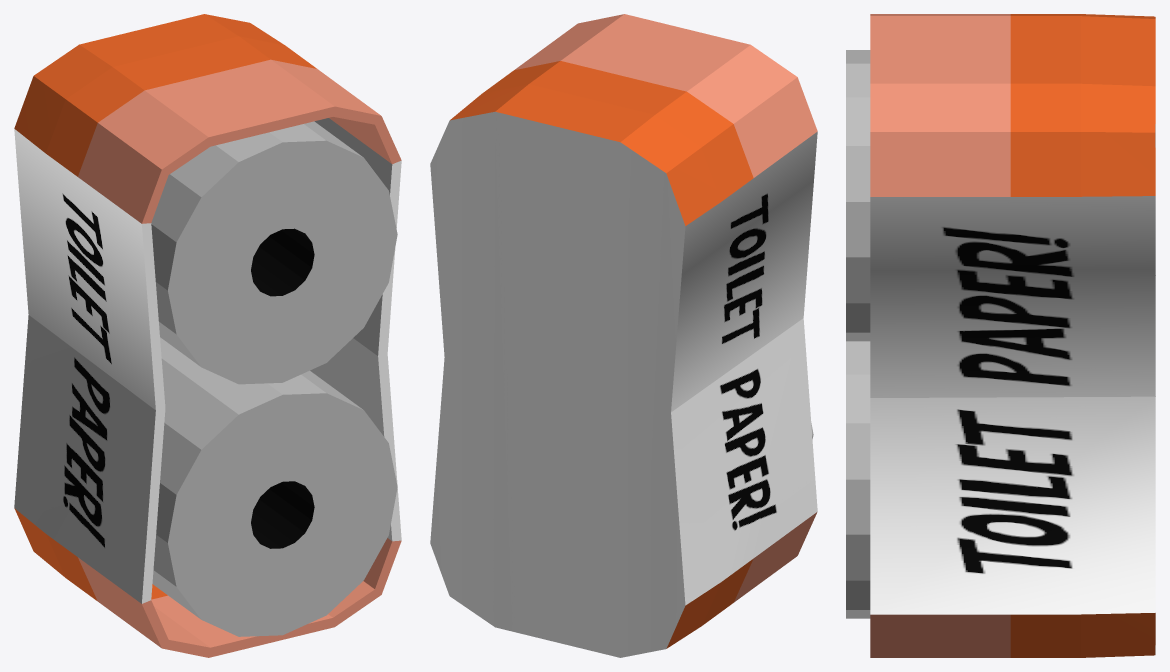
The model's file is Toilet paper.obj.
The picture shows the model from 3 angles, left to right: view 1: azimuth 30°, elevation 25°; view 2: azimuth 150°, elevation 25°; view 3: azimuth 270°, elevation 25°; orthographic projection. The views are drawn at different scales.
Parts seen in each view (by area): view 1: Toilet paper; view 2: Toilet paper; view 3: Toilet paper.
Part boxes in pixels (bbox=[...]): Toilet paper: bbox=[14, 14, 401, 657]; Toilet paper: bbox=[430, 14, 817, 657]; Toilet paper: bbox=[846, 14, 1155, 657].
Bounding box in the file's own units: 0.2714 × 0.5196 × 0.2549.
